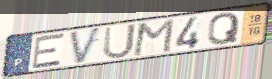4: (173, 14, 202, 51)
E: (31, 32, 66, 70)
M: (131, 17, 177, 58)
Q: (207, 11, 242, 47)
U: (102, 22, 138, 61)
V: (68, 25, 103, 66)
